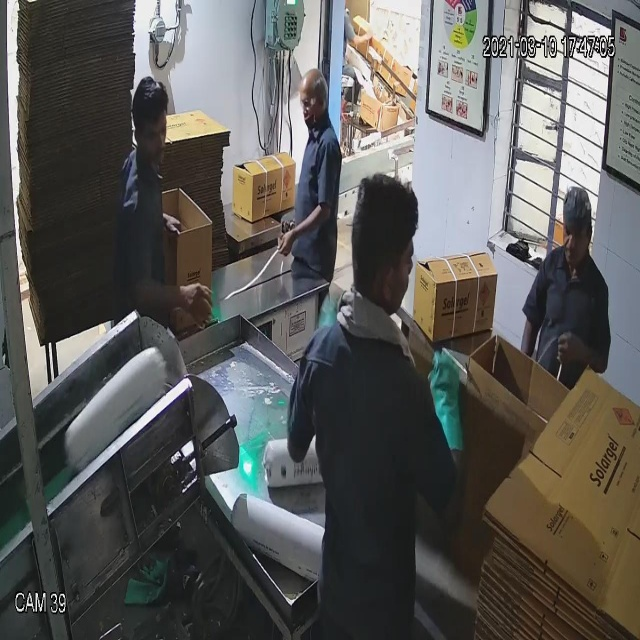Guantes: (422, 343, 476, 484)
Sin_guantes: (121, 255, 226, 340), (272, 196, 337, 274), (552, 314, 602, 387)
